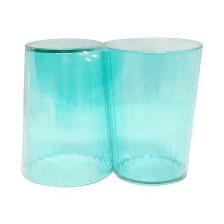glass: (103, 32, 210, 188), (13, 33, 115, 196)
